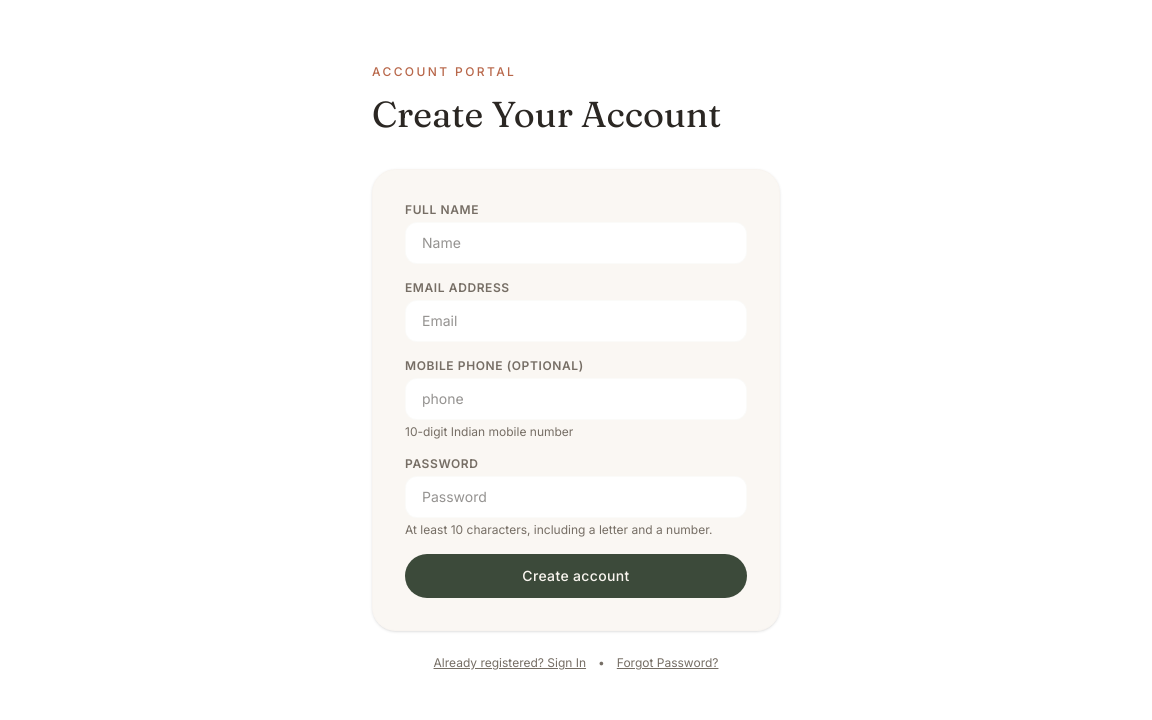
Test: bootstrap › does not let a late failed bootstrap overwrite a completed registration
The width and height of the screenshot is (1152, 720).
Type "Test Customer" into the field with placeholder "Name" at (576, 243), box [405,222,747,264]
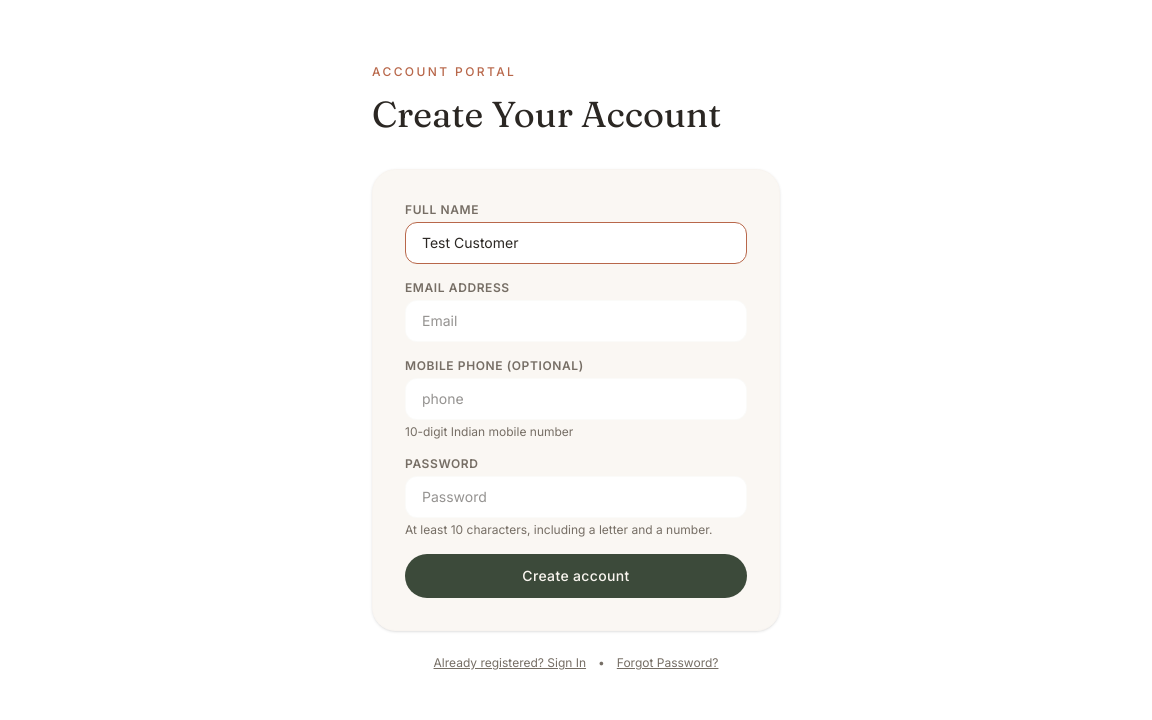
Type "test@example.com" into the field with placeholder "Email" at (576, 321), box [405,300,747,342]
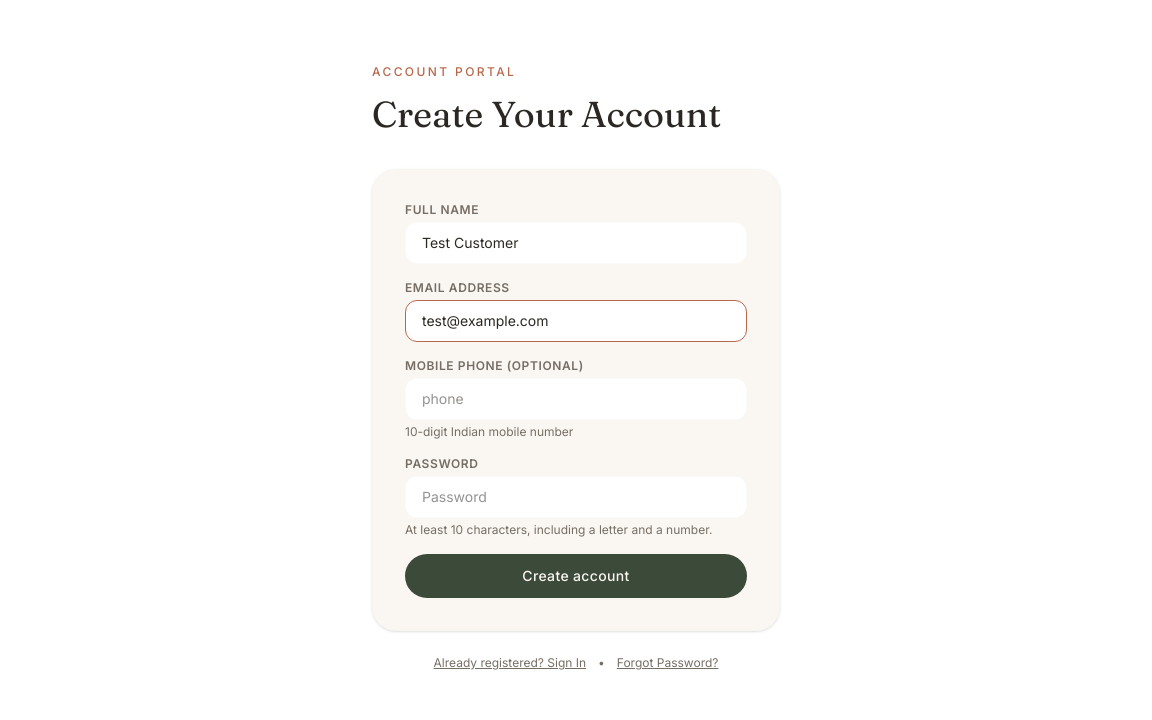
Type "SafePassword123" into the password field with placeholder "Password" at (576, 497), box [405,476,747,518]
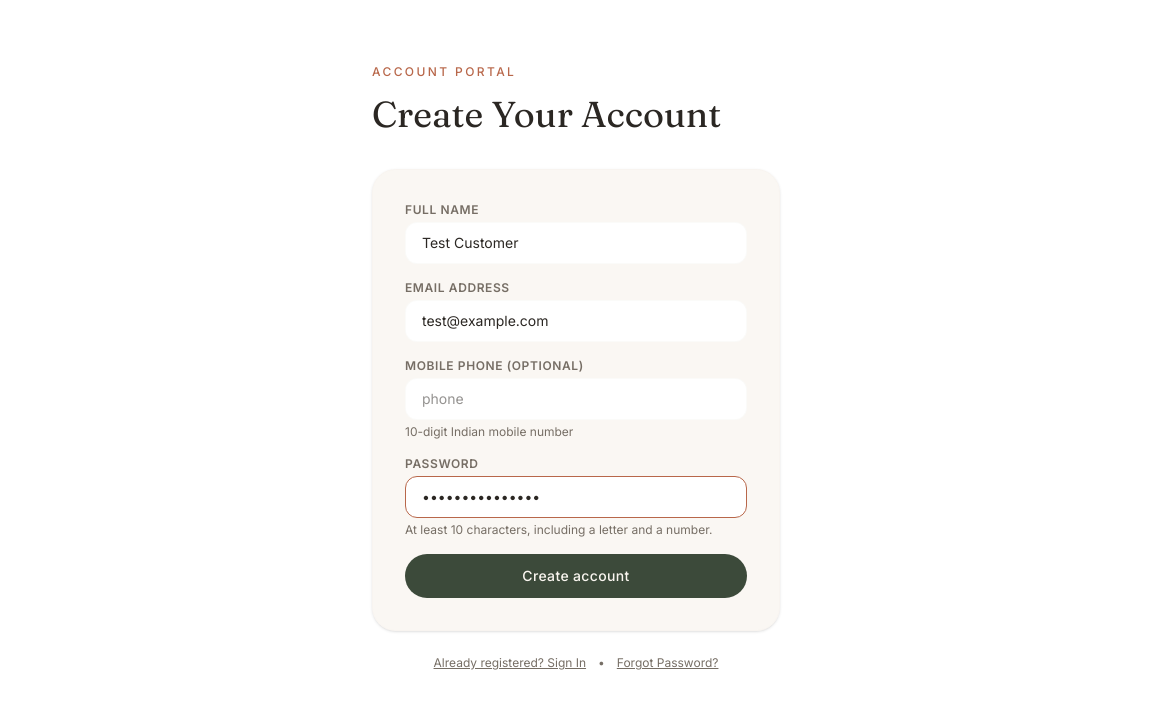
Click the button "Create account" at (576, 576), box [405,554,747,598]
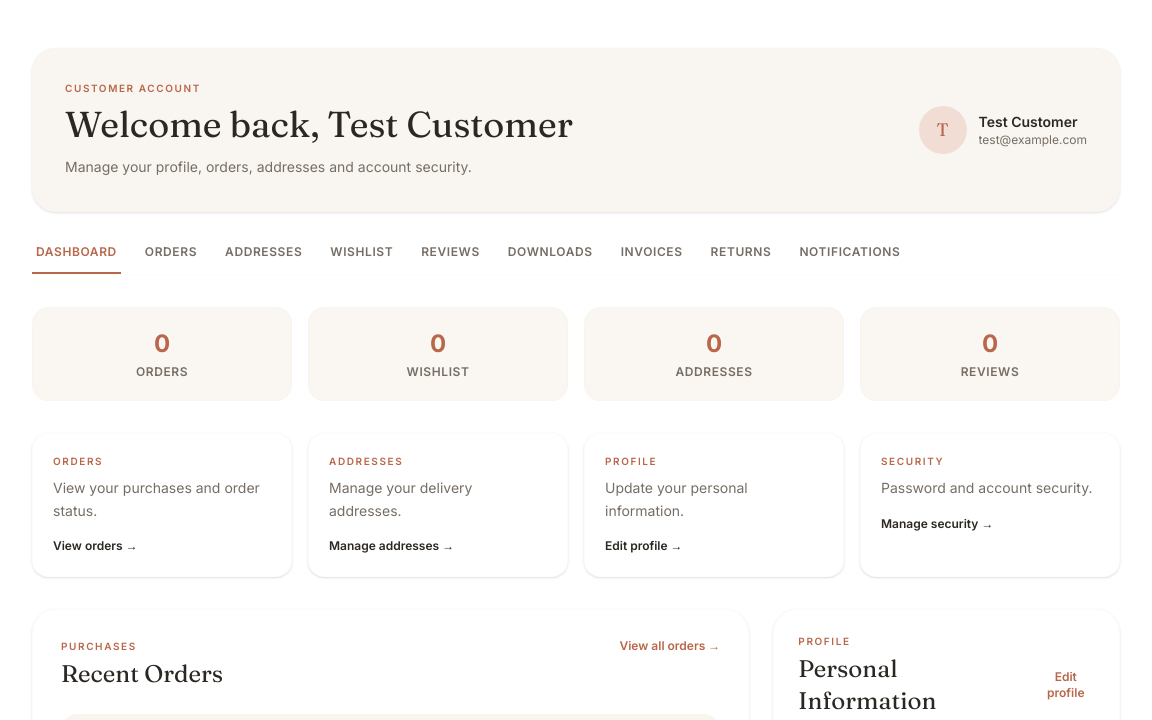
Expected: the text "test@example.com" is shown, [978,132,1087,148]
